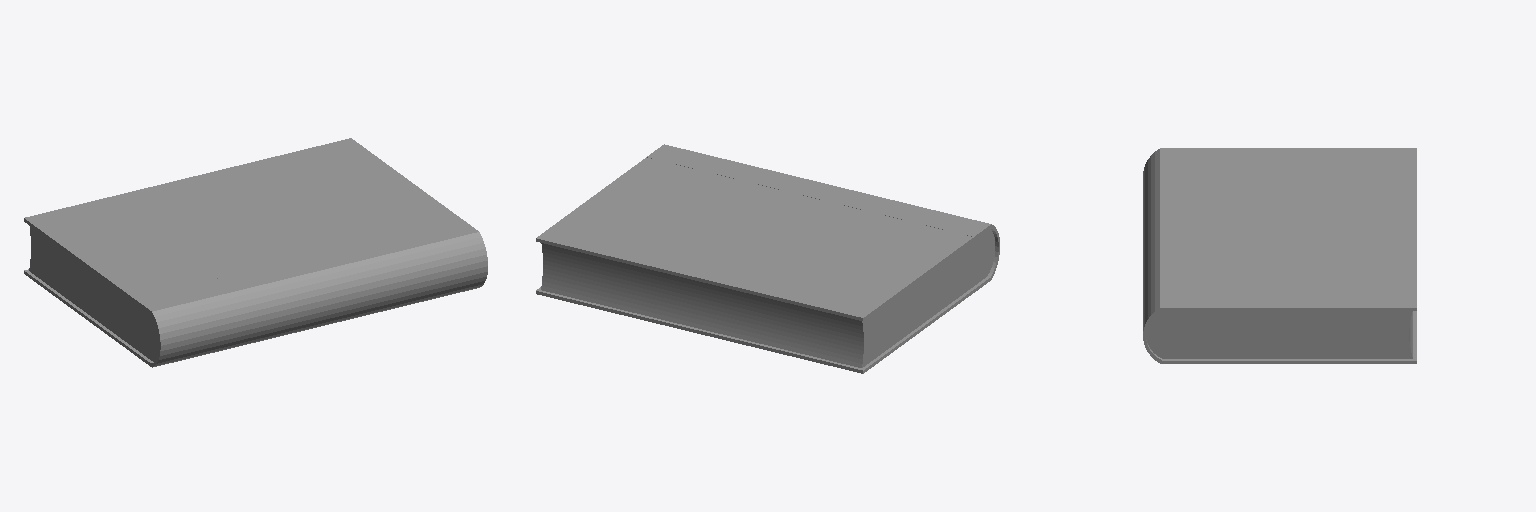
3 renders of one model, left to right at view 1: azimuth 30°, elevation 25°; view 2: azimuth 150°, elevation 25°; view 3: azimuth 270°, elevation 25°, orthographic.
Visible parts, largest first — view 1: SketchUp.001_ID16.004, SketchUp_ID3.025, SketchUp.004_ID50.015, SketchUp.006_ID71, SketchUp.007_ID84, SketchUp.002_ID29; view 2: SketchUp.001_ID16.004, SketchUp.005_ID58.014, SketchUp_ID3.025, SketchUp.004_ID50.015, SketchUp.006_ID71, SketchUp.002_ID29, SketchUp.007_ID84; view 3: SketchUp.001_ID16.004, SketchUp.003_ID37.004, SketchUp_ID3.025, SketchUp.006_ID71, SketchUp.007_ID84, SketchUp.002_ID29.
Boxes of the visible parts, box(x1,y1,x2,y2) form: SketchUp.001_ID16.004: box(24, 138, 460, 301); SketchUp_ID3.025: box(134, 219, 487, 367); SketchUp.004_ID50.015: box(29, 225, 158, 361); SketchUp.006_ID71: box(91, 203, 241, 269); SketchUp.007_ID84: box(184, 180, 300, 255); SketchUp.002_ID29: box(24, 269, 137, 353); SketchUp.001_ID16.004: box(536, 157, 973, 320); SketchUp.005_ID58.014: box(541, 243, 863, 367); SketchUp_ID3.025: box(647, 144, 999, 292); SketchUp.004_ID50.015: box(862, 229, 994, 367); SketchUp.006_ID71: box(755, 223, 905, 289); SketchUp.002_ID29: box(536, 287, 973, 373); SketchUp.007_ID84: box(695, 201, 811, 275); SketchUp.001_ID16.004: box(1196, 148, 1416, 310); SketchUp.003_ID37.004: box(1146, 311, 1412, 358); SketchUp_ID3.025: box(1143, 148, 1195, 363); SketchUp.006_ID71: box(1245, 169, 1367, 212); SketchUp.007_ID84: box(1212, 223, 1402, 232); SketchUp.002_ID29: box(1196, 311, 1416, 363).
Size of the model in its own units: 0.3072 by 0.0503 by 0.2225.